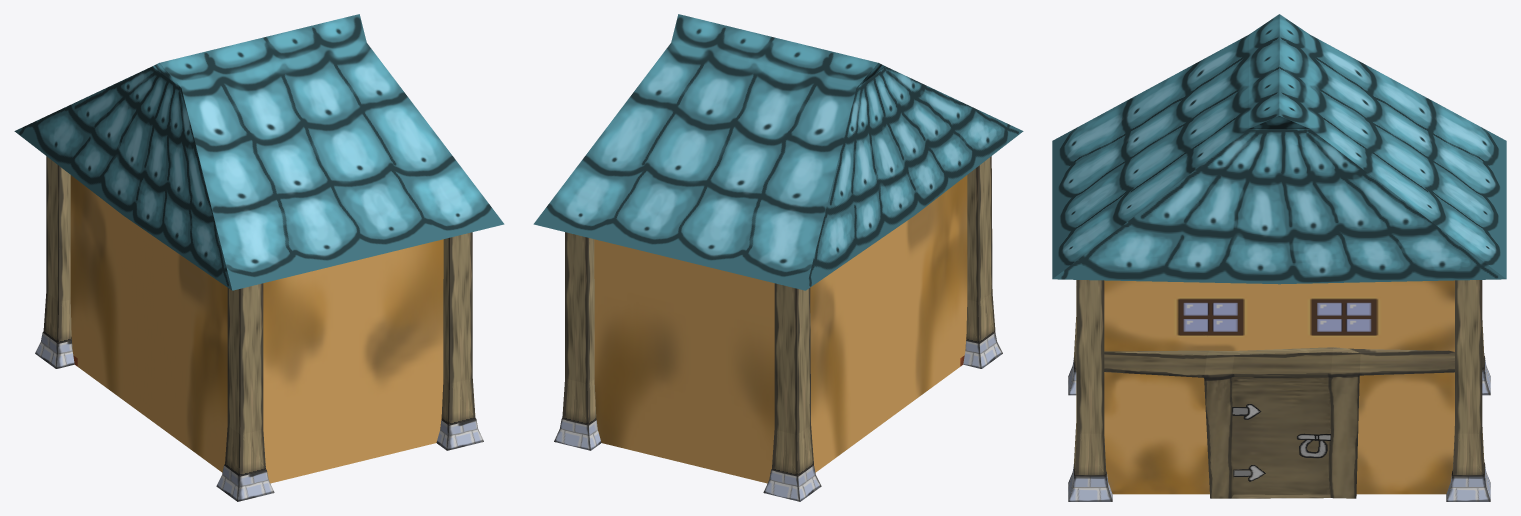
The model's file is House.fbx.
The picture shows the model from 3 angles, left to right: view 1: azimuth 30°, elevation 25°; view 2: azimuth 150°, elevation 25°; view 3: azimuth 270°, elevation 25°; orthographic projection. The views are drawn at different scales.
Parts seen in each view (by area): view 1: Roof, BackOfHouse, Pillar.002, Pillar.001, Pillar.003; view 2: Roof, BackOfHouse, Pillar.003, Pillar, Pillar.002; view 3: Roof, FrontOfHouse, DoorFrame, Pillar.001, Pillar.
Boxes of the visible parts, box(x1,y1,x2,y2) form: Roof: box(14, 14, 504, 290); BackOfHouse: box(70, 175, 443, 483); Pillar.002: box(216, 283, 274, 501); Pillar.001: box(436, 232, 483, 450); Pillar.003: box(35, 156, 74, 368); Roof: box(533, 14, 1023, 290); BackOfHouse: box(594, 175, 967, 483); Pillar.003: box(763, 283, 821, 501); Pillar: box(554, 232, 601, 450); Pillar.002: box(963, 156, 1002, 368); Roof: box(1052, 14, 1506, 284); FrontOfHouse: box(1104, 280, 1454, 494); DoorFrame: box(1104, 347, 1454, 498); Pillar.001: box(1068, 280, 1112, 501); Pillar: box(1446, 280, 1490, 501).
Size of the model in its own units: 390 by 492 by 541.
